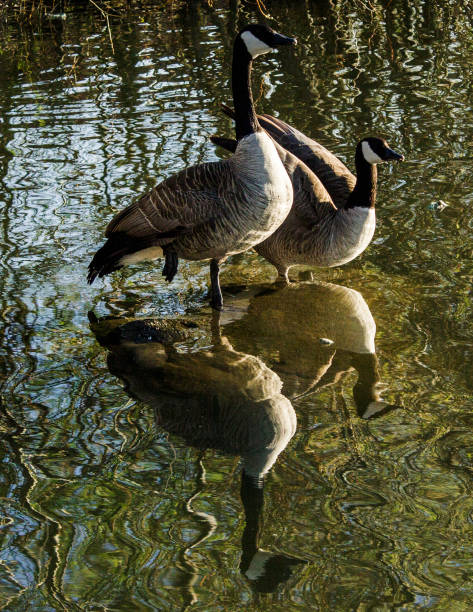goose: (71, 22, 301, 290), (210, 100, 404, 282)
